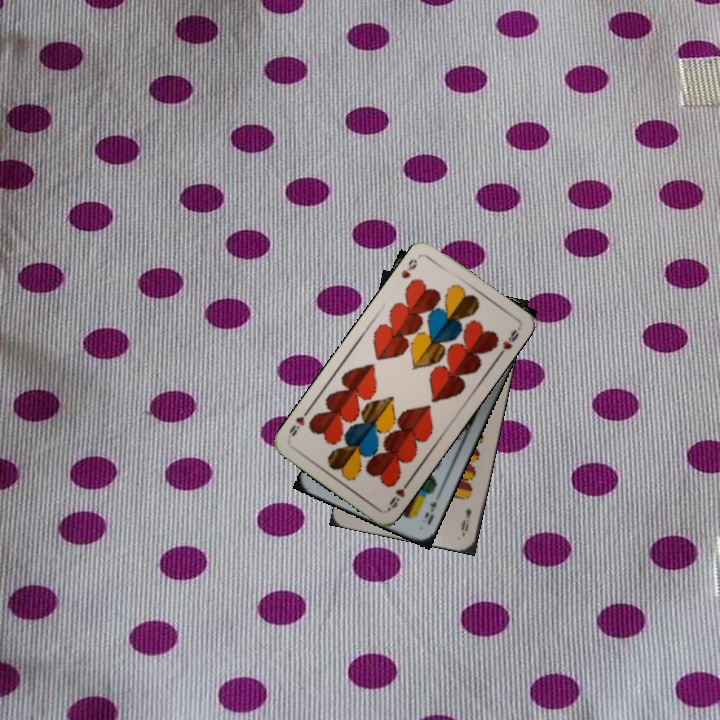E9: (457, 503, 474, 537)
EK: (421, 498, 439, 527)
H9: (383, 477, 412, 513), (397, 255, 420, 281)
